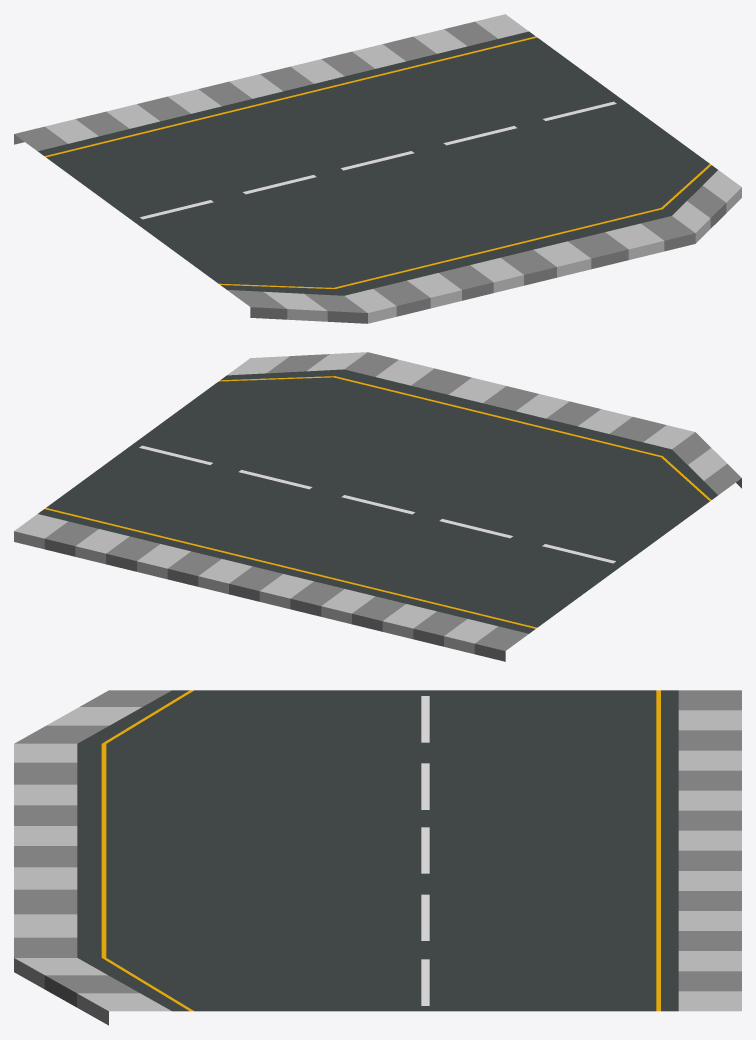
File: SM_Road_06.FBX
3 views of the same model, one above another, from view 1: azimuth 30°, elevation 25°; view 2: azimuth 150°, elevation 25°; view 3: azimuth 270°, elevation 25° (orthographic). The views are drawn at different scales.
Visible parts, largest first — view 1: SM_Road_06; view 2: SM_Road_06; view 3: SM_Road_06.
Boxes of the visible parts, <box> form: SM_Road_06: <box>14,14,741,323</box>; SM_Road_06: <box>14,352,741,661</box>; SM_Road_06: <box>14,690,741,1025</box>.
Size of what is drawn, in the model's own units: 1200 by 1150 by 25.
